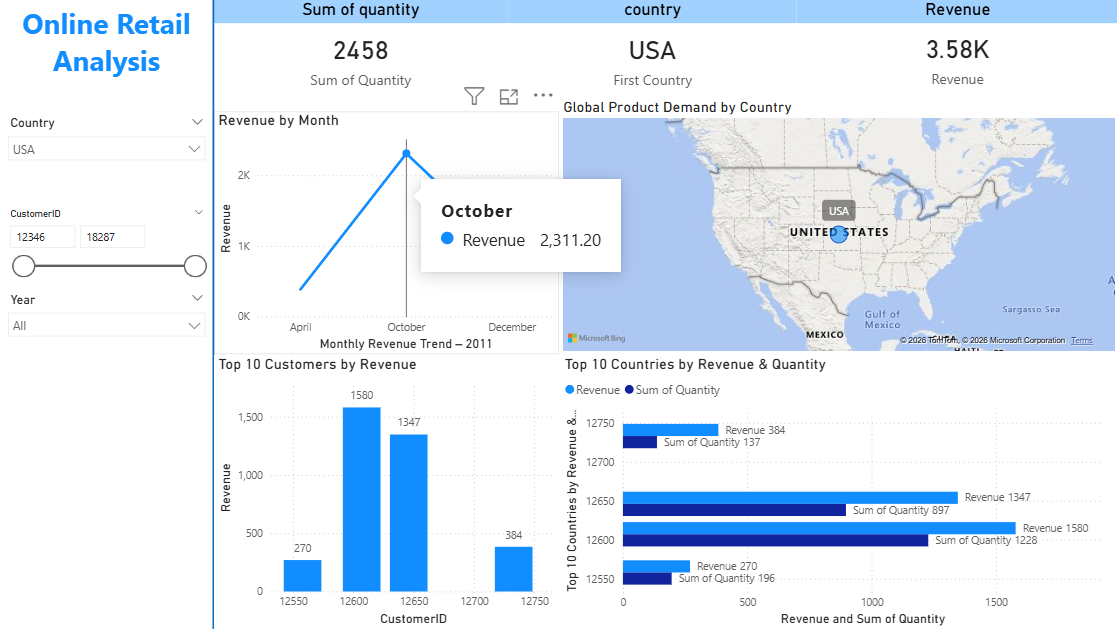

Layout of this report page (visuals, bound fields, positions):
{"tool":"powerbi","page":{"name":"Executive Sales & Demand Overview – 2011","canvas":[1280,720],"ordinal":0},"visuals":[{"type":"card","title":"Sum of quantity ","fields":{"Values":["Sum(Online Retail.Quantity)"]},"box":[244.3,0,338.6,111.4],"z":0},{"type":"card","title":"Revenue ","fields":{"Values":["Online Retail.Revenue"]},"box":[911.4,0,368.6,110],"z":1000},{"type":"card","title":"country ","fields":{"Values":["Min(Online Retail.Country)"]},"box":[582.9,0,328.6,111.4],"z":2000},{"type":"slicer","fields":{"Values":["Online Retail.Country"]},"box":[0,127.1,245.7,95.7],"z":3000},{"type":"textbox","box":[0,0,245.7,127.1],"z":4000},{"type":"slicer","fields":{"Values":["Online Retail.InvoiceDate.Variation.Date Hierarchy.Year"]},"box":[0,328.6,245.7,95.7],"z":5000},{"type":"slicer","fields":{"Values":["Online Retail.CustomerID"]},"box":[0,232.9,245.7,95.7],"z":6000},{"type":"lineChart","fields":{"Category":["Online Retail.InvoiceDate.Variation.Date Hierarchy.Month"],"Y":["Online Retail.Revenue"]},"box":[245.7,127.1,394.3,278.6],"z":7000},{"type":"shape","box":[104.3,0,281.4,720],"z":8000},{"type":"clusteredColumnChart","title":"Top 10 Customers by Revenue","fields":{"Category":["Online Retail.CustomerID"],"Y":["Online Retail.Revenue"]},"box":[245.7,405.7,395.7,314.3],"z":9000},{"type":"clusteredBarChart","title":"Top 10 Countries by Revenue & Quantity","fields":{"Category":["Online Retail.CustomerID","Online Retail.Country"],"Y":["Online Retail.Revenue","Sum(Online Retail.Quantity)"]},"box":[641.4,405.7,638.6,314.3],"z":10000},{"type":"map","title":"Global Product Demand by Country","fields":{"Category":["Online Retail.Country"],"Size":["Sum(Online Retail.Quantity)"]},"box":[640,111.4,640,294.3],"z":11000}]}

Visuals, with their boxes in screenshot pixels (x1, y1, x2, y2), scaled from the page's 1280x720 canvas onto the 1117x629 screenshot:
"Sum of quantity " card: 213:0:509:97
"Revenue " card: 795:0:1116:96
"country " card: 509:0:795:97
slicer - Online Retail.Country: 0:111:214:195
textbox: 0:0:214:111
slicer - Online Retail.InvoiceDate.Variation.Date Hierarchy.Year: 0:287:214:371
slicer - Online Retail.CustomerID: 0:203:214:287
lineChart - Online Retail.InvoiceDate.Variation.Date Hierarchy.Month x Online Retail.Revenue: 214:111:558:354
shape: 91:0:337:628
"Top 10 Customers by Revenue" clusteredColumnChart: 214:354:560:628
"Top 10 Countries by Revenue & Quantity" clusteredBarChart: 560:354:1116:628
"Global Product Demand by Country" map: 558:97:1116:354
